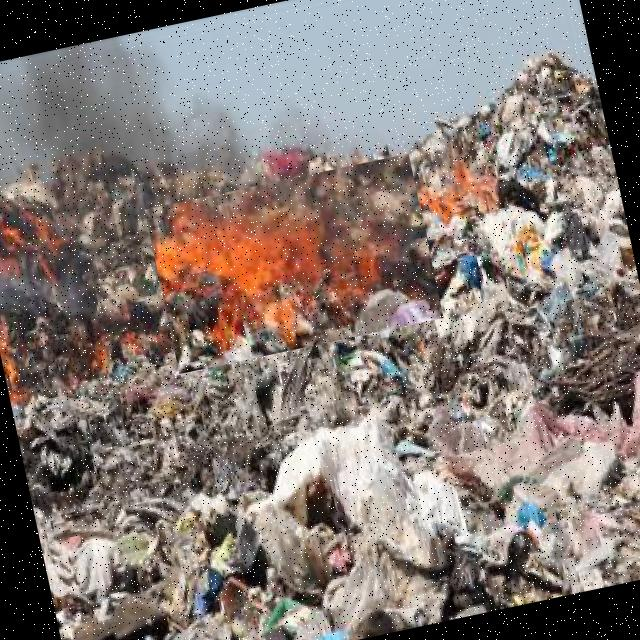fire: (144, 153, 443, 373)
